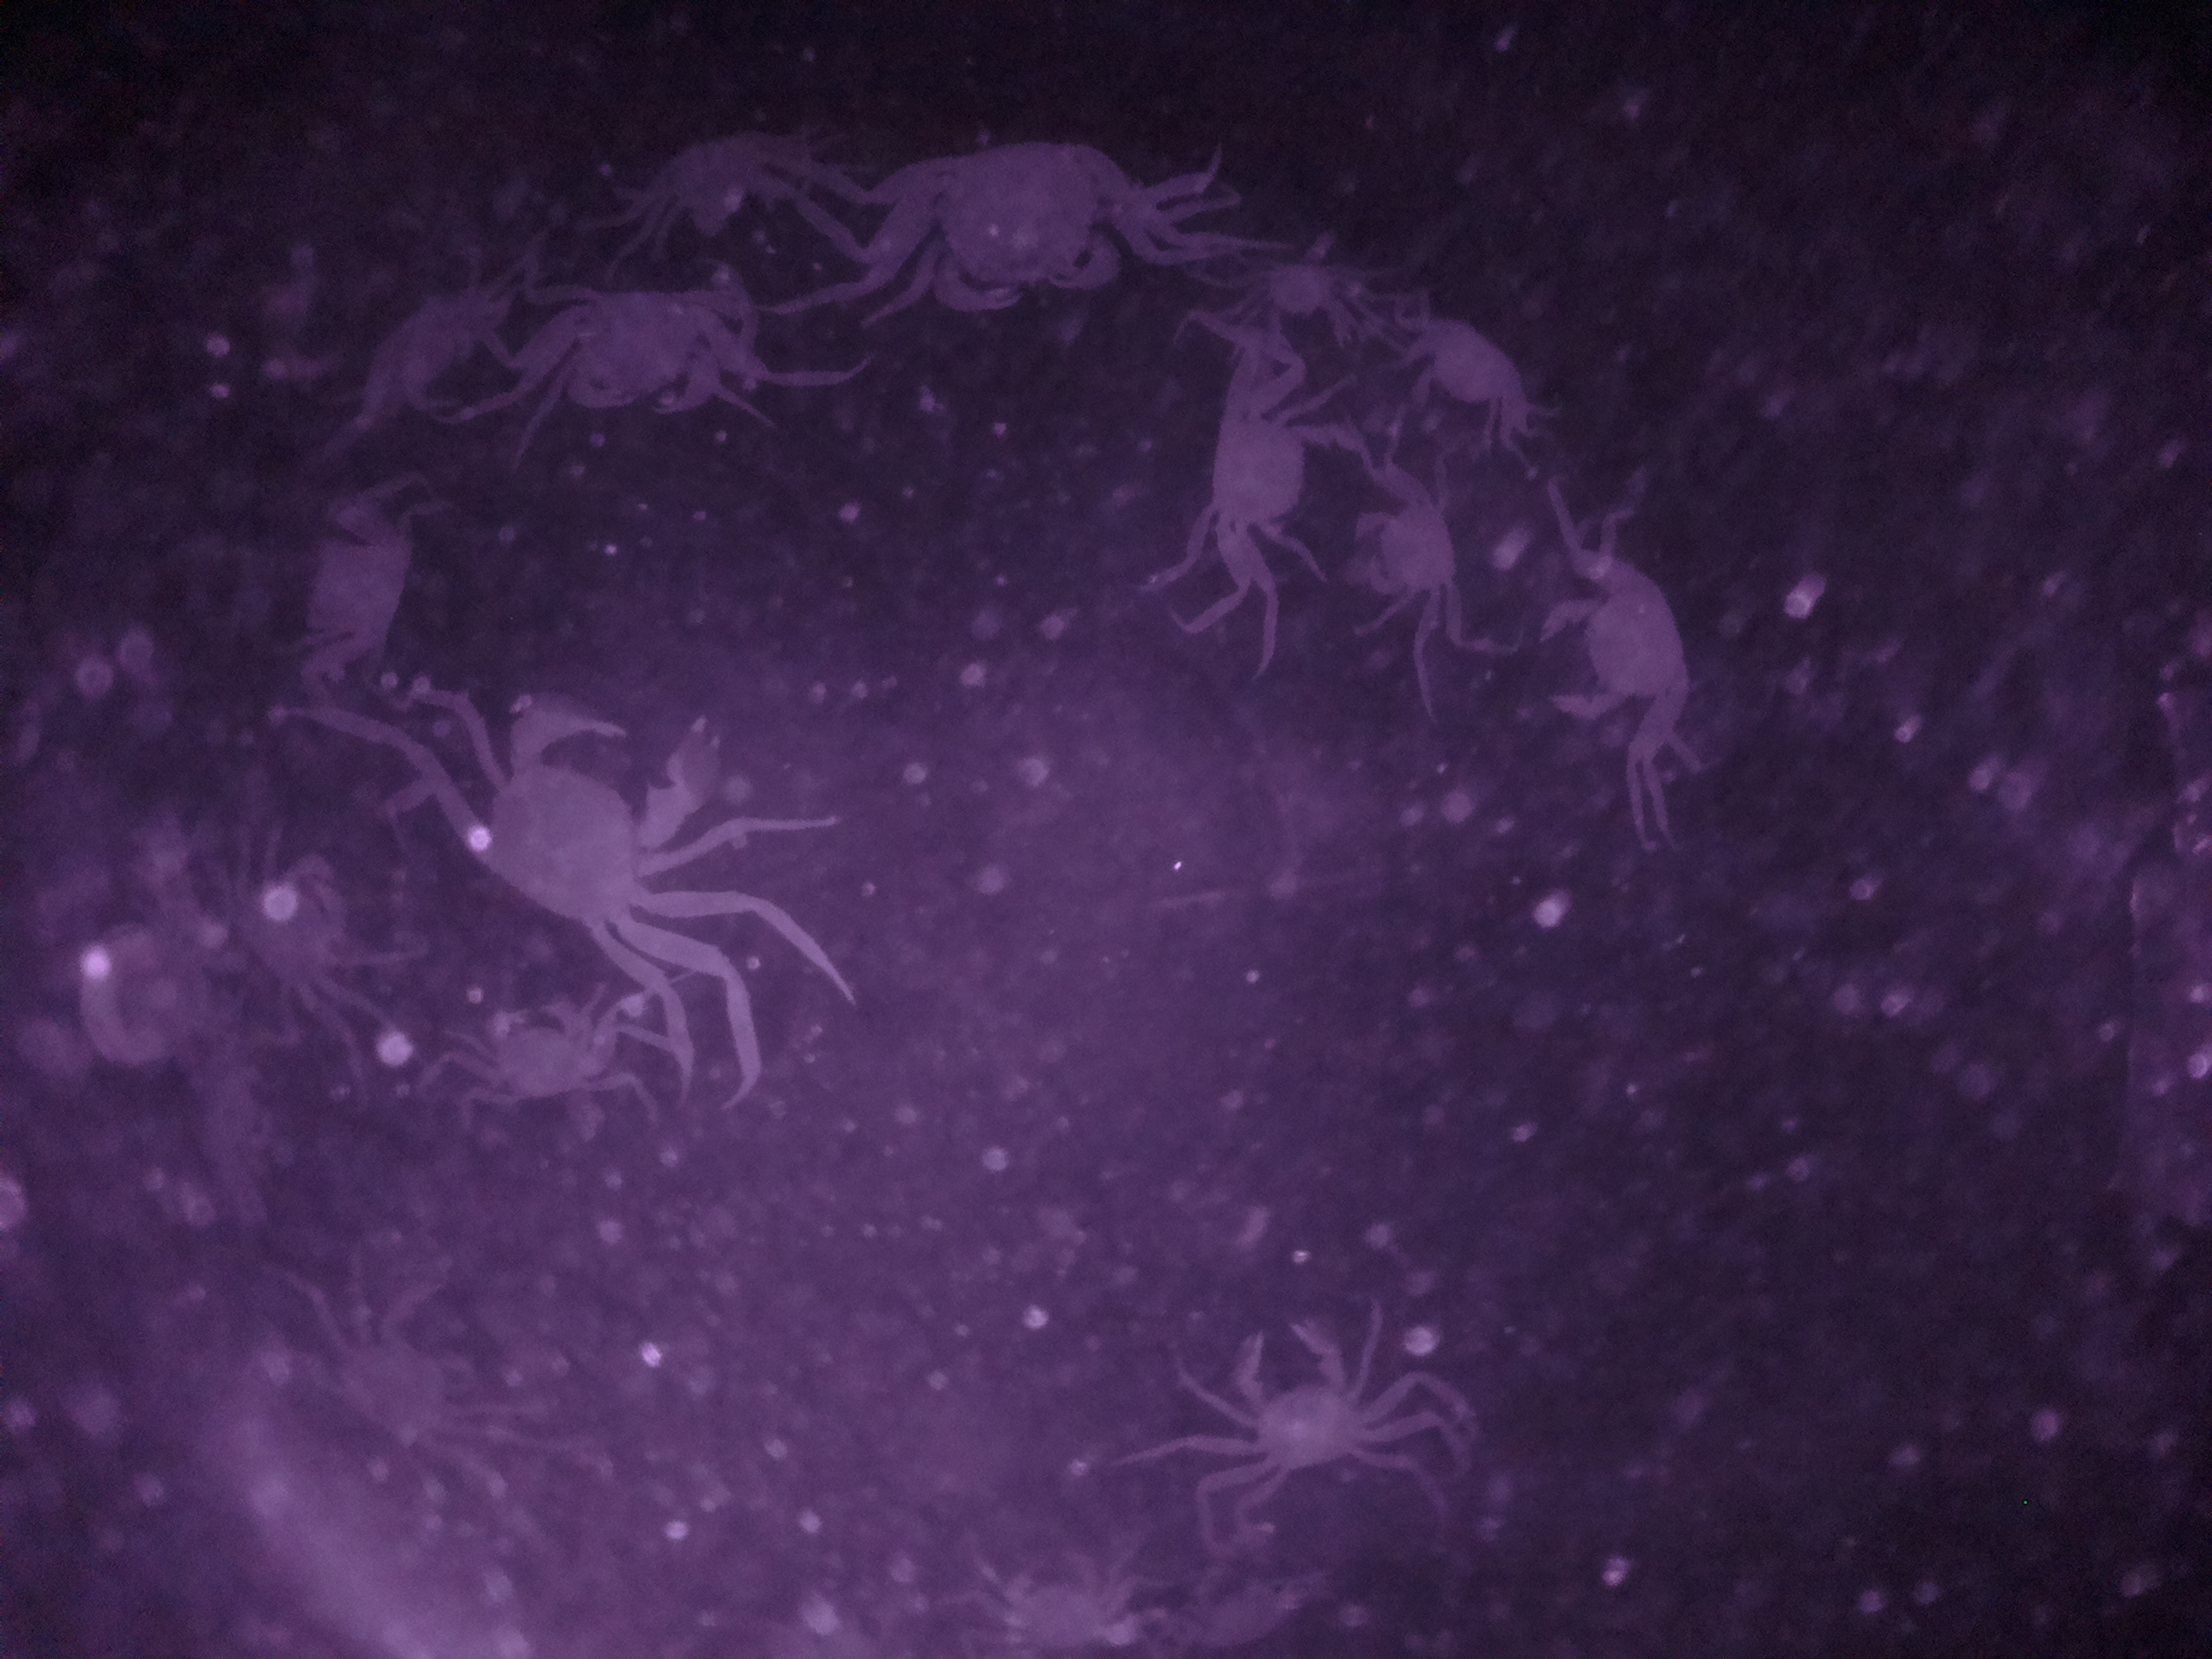Crab: (449, 674, 765, 965), (888, 134, 1176, 342), (517, 268, 787, 425), (1541, 533, 1716, 763), (1195, 1310, 1402, 1497), (1190, 368, 1329, 579), (1327, 462, 1500, 626), (458, 979, 618, 1126)
